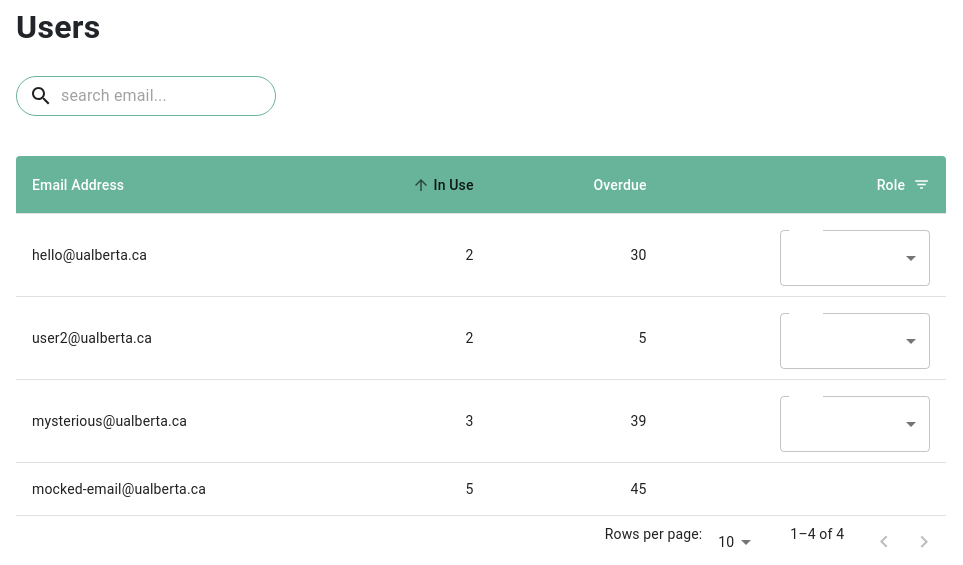
Test: Search Functionality › allows users to be searched by email
expect the column heading "hello@ualberta.ca" is shown: met, box [16,214,337,297]
expect the column heading "user2@ualberta.ca" is shown: met, box [16,297,337,380]
// Change the search input
In the field with placeholder "search email...": (162, 96) [61,80,263,112], type "hello"
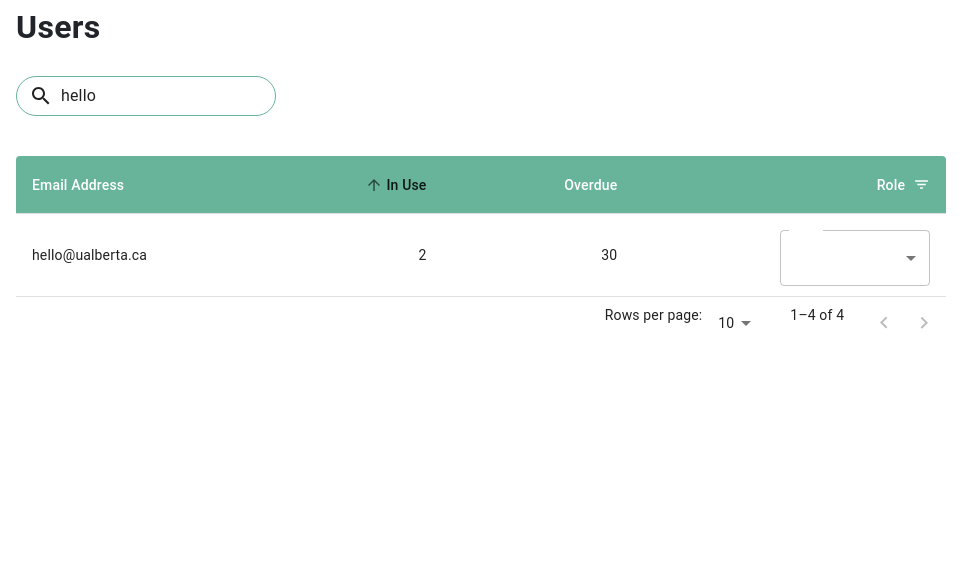
expect the checkbox "user2@ualberta.ca" is gone: met
expect the checkbox "mysterious@ualberta.ca" is gone: met
expect the checkbox "mocked-email@ualberta.ca" is gone: met
